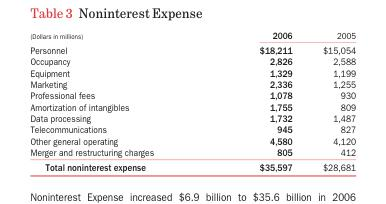table: (29, 29, 355, 172)
table column: (29, 29, 205, 172), (205, 29, 306, 172), (306, 29, 355, 172)
table column header: (29, 29, 355, 42)
table row: (29, 29, 355, 42), (29, 42, 355, 55), (29, 146, 355, 159), (29, 159, 355, 172), (29, 66, 355, 78), (29, 100, 355, 112), (29, 123, 355, 135), (29, 55, 355, 66), (29, 78, 355, 89), (29, 89, 355, 100), (29, 112, 355, 123), (29, 135, 355, 146)
